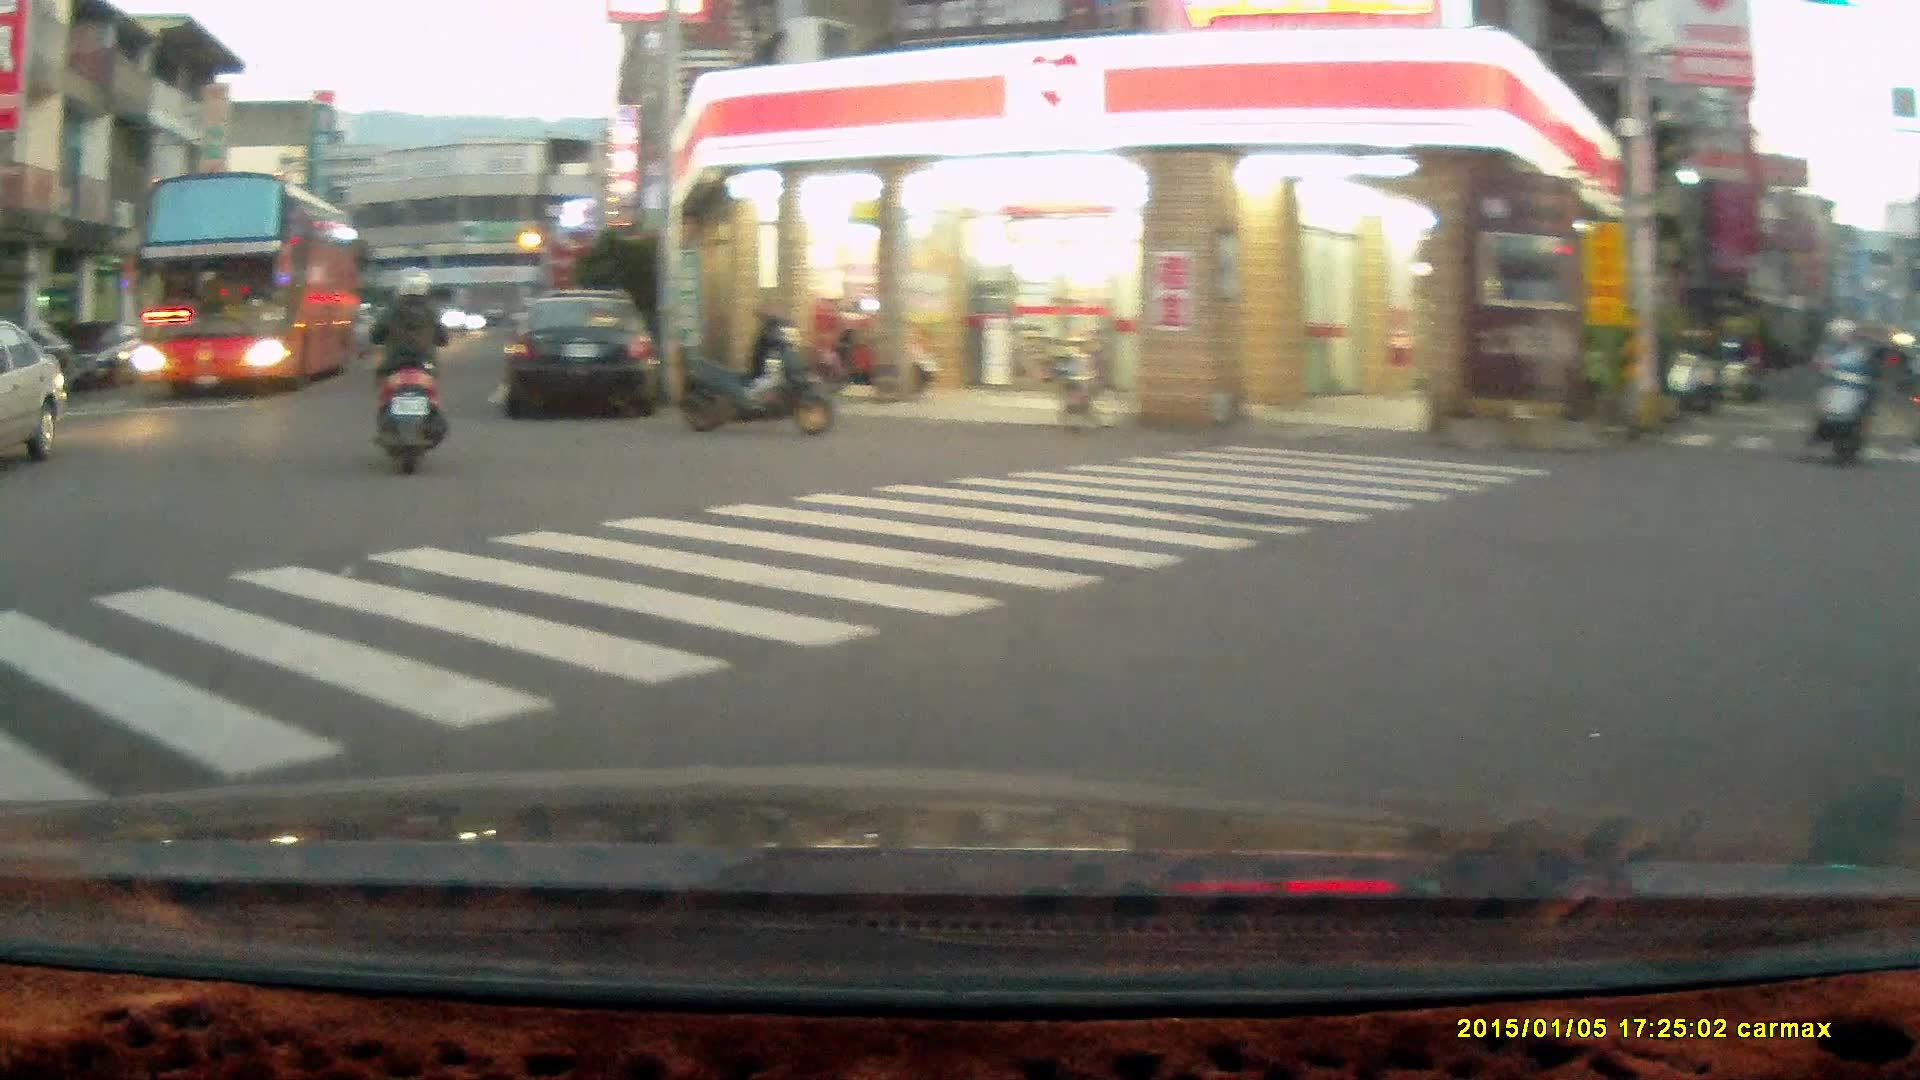rider: (364, 261, 459, 474), (1804, 314, 1875, 470)
vehicle: (135, 168, 372, 394), (501, 289, 665, 418), (1614, 315, 1775, 440)
